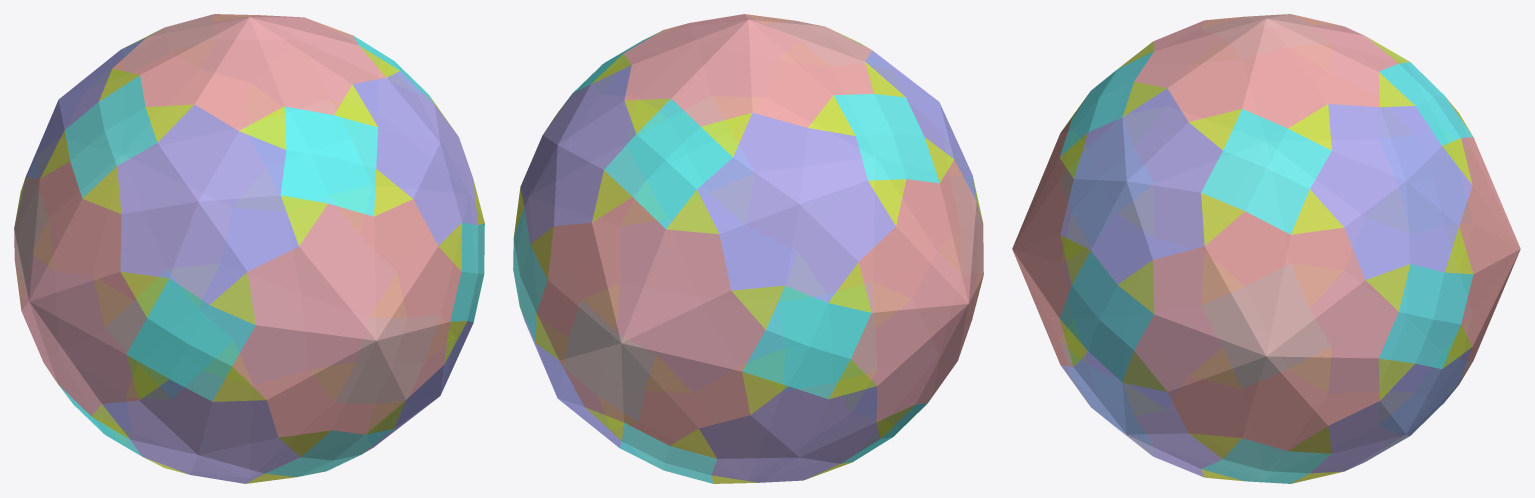
File: PropellorDisdyakisDodecahedron.obj
The picture shows the model from 3 angles, left to right: view 1: azimuth 30°, elevation 25°; view 2: azimuth 150°, elevation 25°; view 3: azimuth 270°, elevation 25°; orthographic projection.
Bounding box in the file's own units: 2.16 × 2.16 × 2.16.
